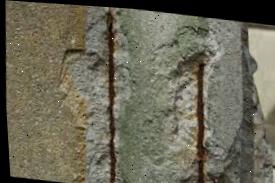exposed_rebar: (106, 7, 115, 183), (195, 63, 204, 183)
spalling: (70, 6, 273, 183)
